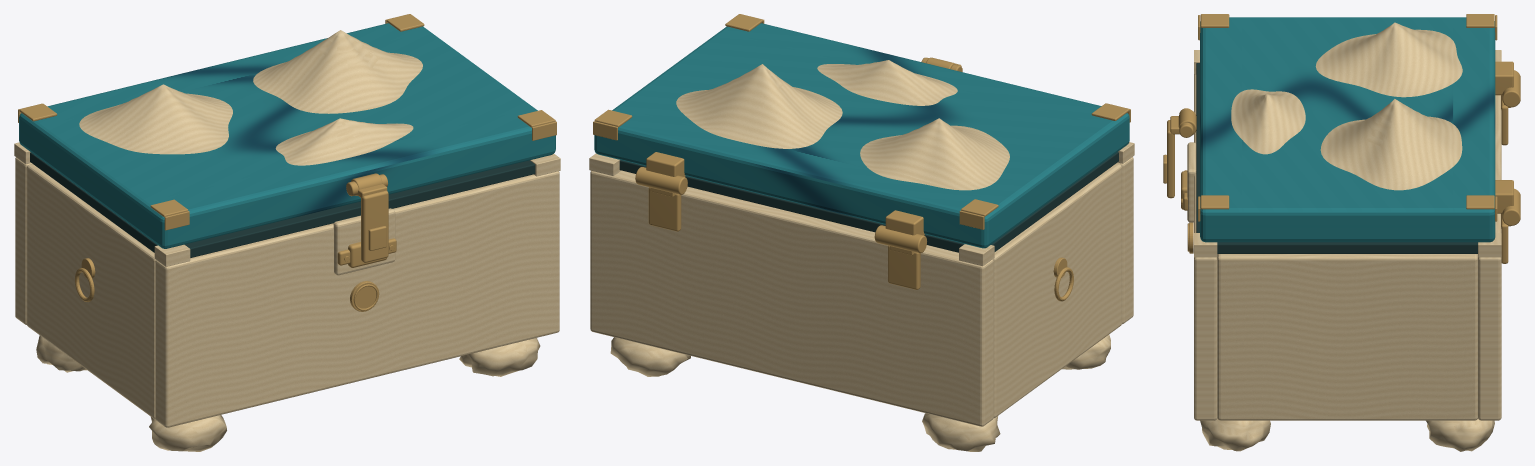
File: mozambique.glb
3 views of the same model, side by side, from view 1: azimuth 30°, elevation 25°; view 2: azimuth 150°, elevation 25°; view 3: azimuth 270°, elevation 25° (orthographic).
Parts seen in each view (by area): view 1: Sand / front rear, Lid / polished slab, Sand / side, Dune / island 2, Dune / island 1, Tidal seam / long, Dune / island 3, Granite foot, Granite foot.002, Sand / front rear.001, Latch / lifting hasp, Sand / clasp seat (+4 smaller); view 2: Sand / front rear.001, Lid / polished slab, Sand / side, Dune / island 2, Dune / island 1, Dune / island 3, Tidal seam / long.001, Granite foot.001, Sand / front rear, Granite foot.003, Tidal seam / side, Hinge / fixed mount.001 (+8 smaller); view 3: Lid / polished slab, Sand / side.001, Dune / island 2, Dune / island 1, Sand / front rear.001, Sand / front rear, Dune / island 3, Tidal seam / side.001, Granite foot.002, Granite foot.003, Sand / clasp seat, Tidal seam / long (+11 smaller).
Boxes of the visible parts, left/top/right/bottom form: Sand / front rear: left=155, top=171, right=559, bottom=427; Lid / polished slab: left=19, top=23, right=555, bottom=248; Sand / side: left=26, top=164, right=155, bottom=419; Dune / island 2: left=253, top=30, right=422, bottom=113; Dune / island 1: left=79, top=84, right=232, bottom=154; Tidal seam / long: left=184, top=160, right=535, bottom=257; Dune / island 3: left=275, top=118, right=413, bottom=165; Granite foot: left=149, top=415, right=226, bottom=451; Granite foot.002: left=459, top=338, right=540, bottom=376; Sand / front rear.001: left=15, top=157, right=32, bottom=324; Latch / lifting hasp: left=361, top=190, right=388, bottom=262; Sand / clasp seat: left=333, top=208, right=395, bottom=275; Sand / front rear.001: left=590, top=170, right=993, bottom=426; Lid / polished slab: left=594, top=23, right=1129, bottom=248; Sand / side: left=993, top=163, right=1121, bottom=418; Dune / island 2: left=676, top=64, right=842, bottom=148; Dune / island 1: left=860, top=118, right=1009, bottom=190; Dune / island 3: left=817, top=60, right=957, bottom=105; Tidal seam / long.001: left=619, top=160, right=964, bottom=252; Granite foot.001: left=922, top=413, right=1000, bottom=451; Sand / front rear: left=1116, top=157, right=1133, bottom=324; Granite foot.003: left=610, top=337, right=690, bottom=376; Tidal seam / side: left=991, top=152, right=1118, bottom=251; Hinge / fixed mount.001: left=648, top=187, right=681, bottom=231; Lid / polished slab: left=1200, top=17, right=1495, bottom=242; Sand / side.001: left=1217, top=254, right=1477, bottom=420; Dune / island 2: left=1320, top=99, right=1462, bottom=190; Dune / island 1: left=1315, top=22, right=1462, bottom=97; Sand / front rear.001: left=1478, top=95, right=1501, bottom=420; Sand / front rear: left=1194, top=74, right=1217, bottom=420; Dune / island 3: left=1231, top=89, right=1305, bottom=154; Tidal seam / side.001: left=1217, top=242, right=1477, bottom=253; Granite foot.002: left=1200, top=418, right=1270, bottom=451; Granite foot.003: left=1426, top=419, right=1494, bottom=451; Sand / clasp seat: left=1187, top=142, right=1196, bottom=222; Tidal seam / long: left=1196, top=63, right=1199, bottom=232.
Bounding box in the file's own units: 3.79 × 2.75 × 2.88.
4 materials, 2 textured.
